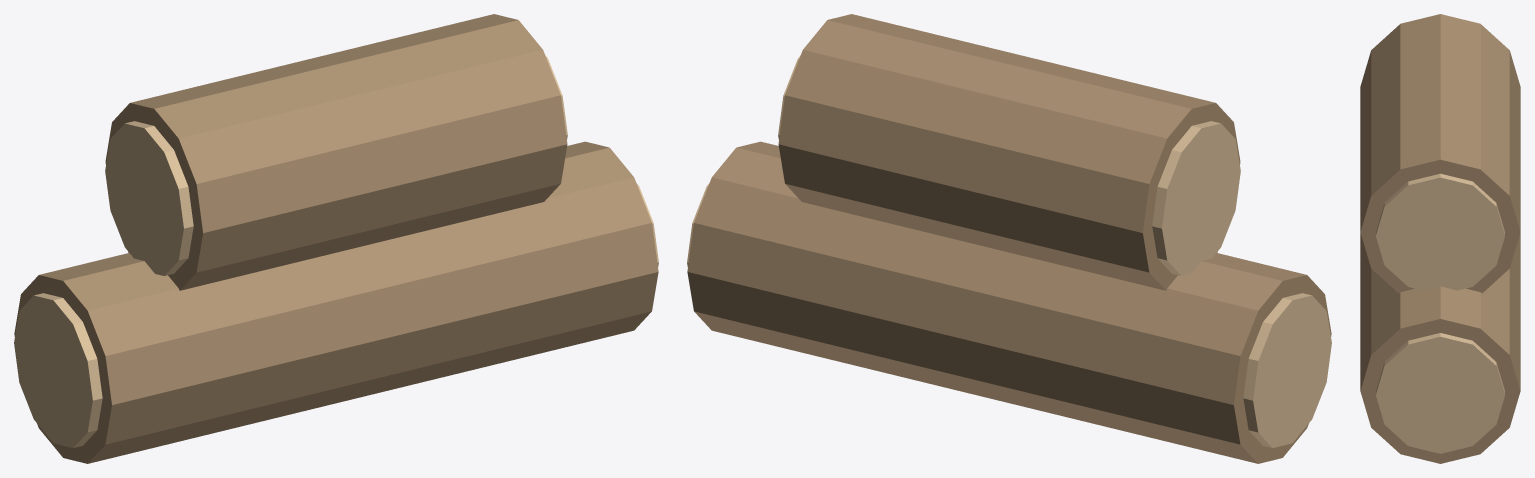
Rendered from wood.glb.
3 views of the same model, side by side, from view 1: azimuth 30°, elevation 25°; view 2: azimuth 150°, elevation 25°; view 3: azimuth 270°, elevation 25° (orthographic). The views are drawn at different scales.
Parts seen in each view (by area): view 1: wood; view 2: wood; view 3: wood.
Part boxes in pixels (x1,y1,x2,y2): wood: (14,14,658,463); wood: (687,14,1331,463); wood: (1360,14,1520,463).
Size of the model in its own units: 0.87 by 0.48 by 0.26.
